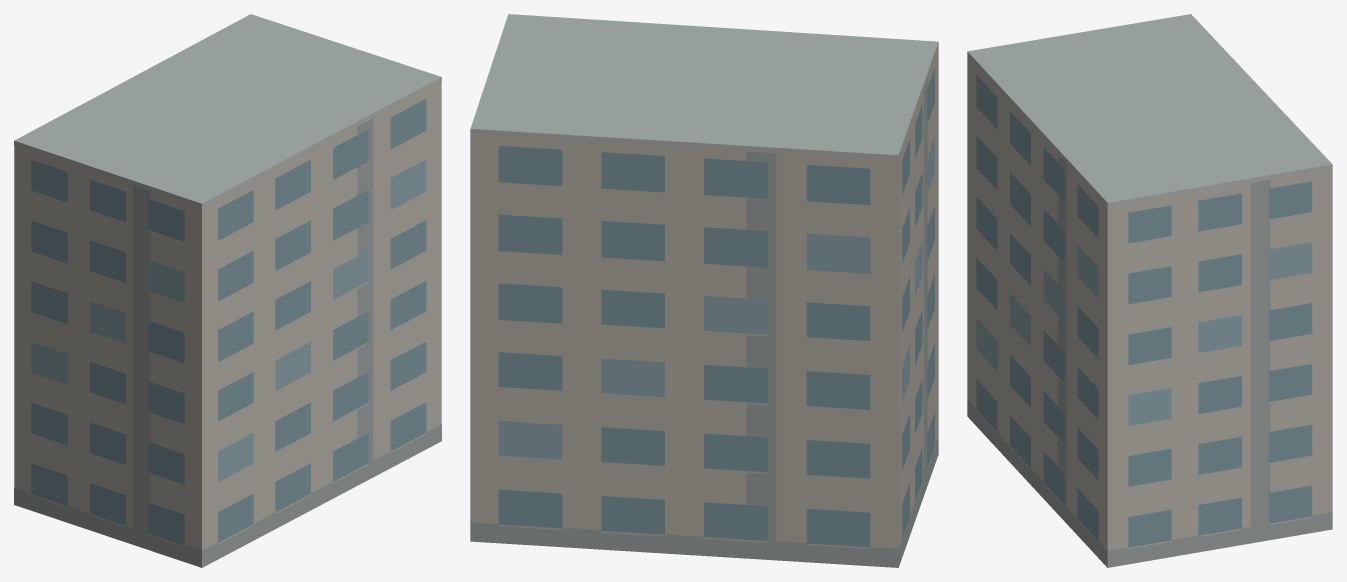
The model's file is survey-upis-33015326.glb.
3 views of the same model, side by side, from view 1: azimuth 30°, elevation 25°; view 2: azimuth 150°, elevation 25°; view 3: azimuth 270°, elevation 25° (orthographic). The views are drawn at different scales.
Visible parts, largest first — view 1: survey-upis-33015326.tmp; view 2: survey-upis-33015326.tmp; view 3: survey-upis-33015326.tmp.
Part boxes in pixels (x1=…): survey-upis-33015326.tmp: x1=14, y1=14, x2=441, y2=567; survey-upis-33015326.tmp: x1=470, y1=14, x2=938, y2=567; survey-upis-33015326.tmp: x1=967, y1=14, x2=1332, y2=567.
Bounding box in the file's own units: 20.31 × 18.3 × 16.6.
